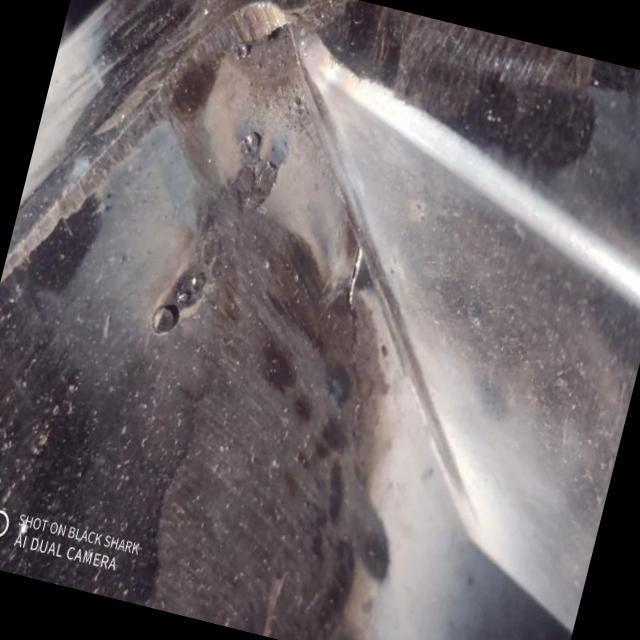defect: (345, 242, 368, 448)
